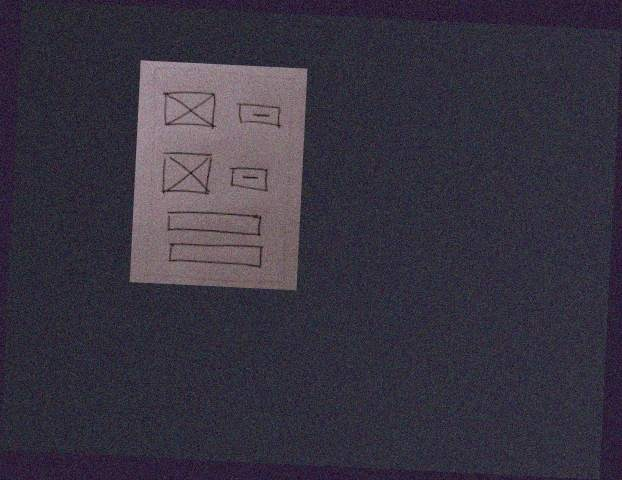button: (234, 99, 286, 131), (226, 162, 272, 195)
image: (160, 89, 223, 134), (159, 149, 214, 200)
text_input: (164, 205, 263, 239), (165, 240, 265, 271)
